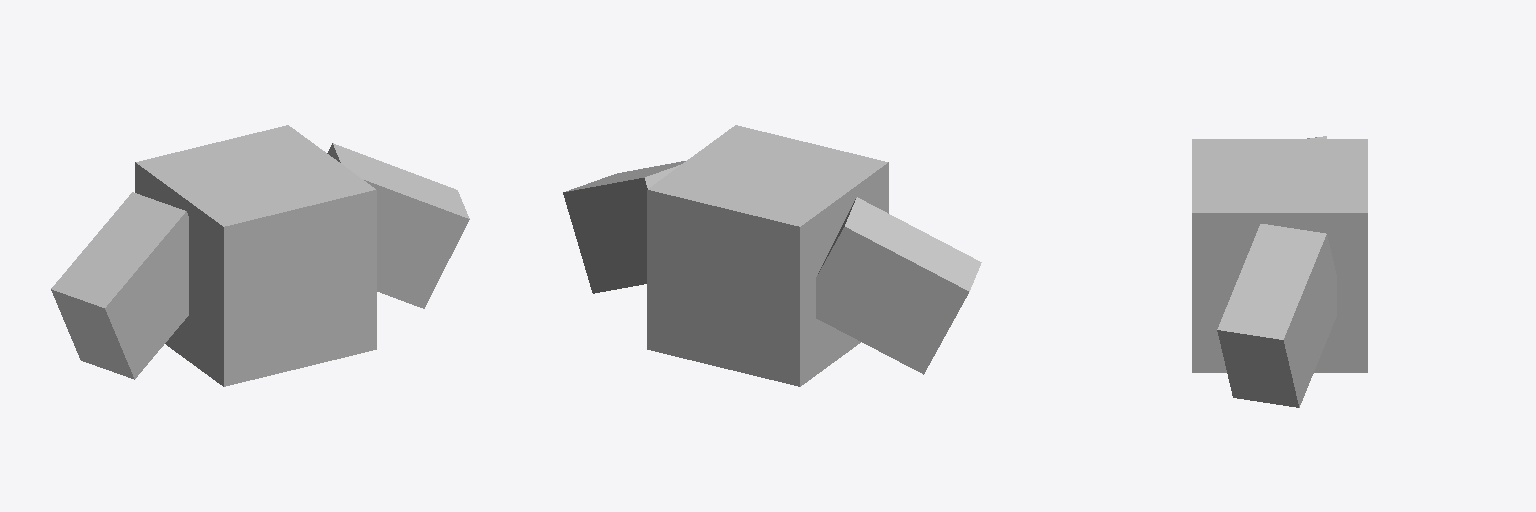
Rendered from playerModel.obj.
3 renders of one model, left to right at view 1: azimuth 30°, elevation 25°; view 2: azimuth 150°, elevation 25°; view 3: azimuth 270°, elevation 25°, orthographic.
Visible parts, largest first — view 1: Cube; view 2: Cube; view 3: Cube.
Boxes of the visible parts, x1,y1,x2,y2 form: Cube: [51, 125, 469, 386]; Cube: [563, 125, 981, 386]; Cube: [1192, 136, 1367, 407].
Bounding box in the file's own units: 2.66 × 1 × 1.